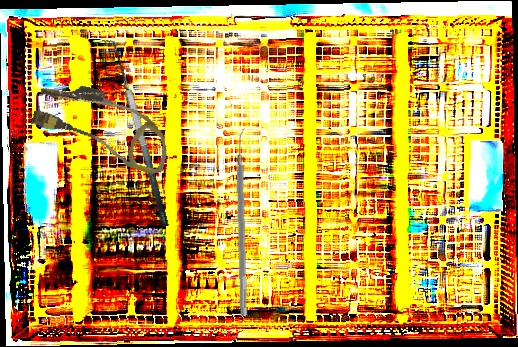Cannula: (26, 75, 179, 176)
Spatula Surgical: (98, 35, 170, 232), (233, 128, 256, 316)
